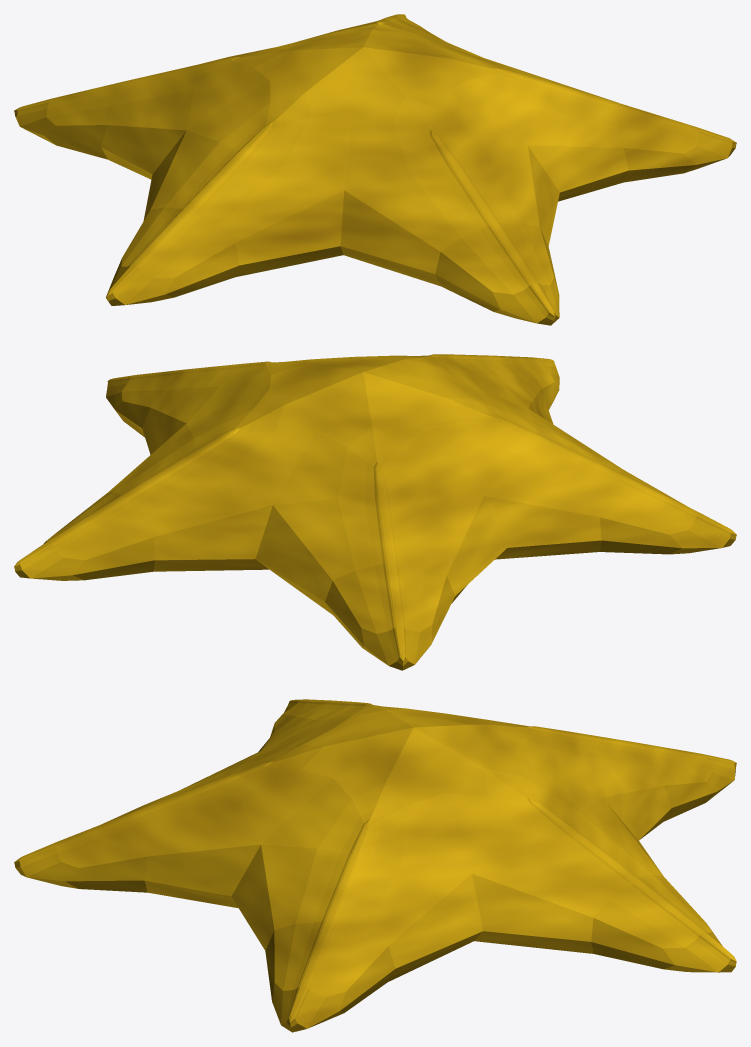
File: yellow starfish.fbx
The picture shows the model from 3 angles, top to bottom: view 1: azimuth 30°, elevation 25°; view 2: azimuth 150°, elevation 25°; view 3: azimuth 270°, elevation 25°; orthographic projection. The views are drawn at different scales.
Visible parts, largest first — view 1: Circle; view 2: Circle; view 3: Circle.
Boxes of the visible parts, x1,y1,x2,y2 form: Circle: (14,14,736,325); Circle: (14,354,736,670); Circle: (14,699,736,1032).
Size of the model in its own units: 421 by 92.48 by 401.
1 material, 1 textured.
